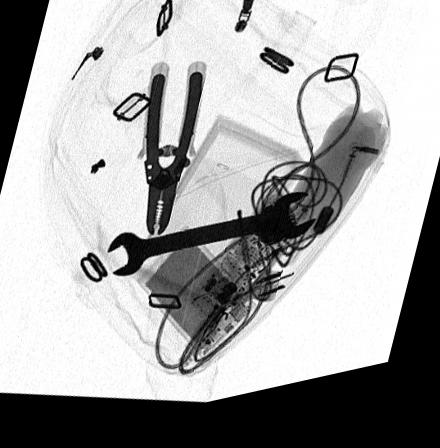Pliers: (142, 82, 202, 244)
Powerbank: (128, 235, 251, 367)
Wrench: (107, 205, 317, 283)
